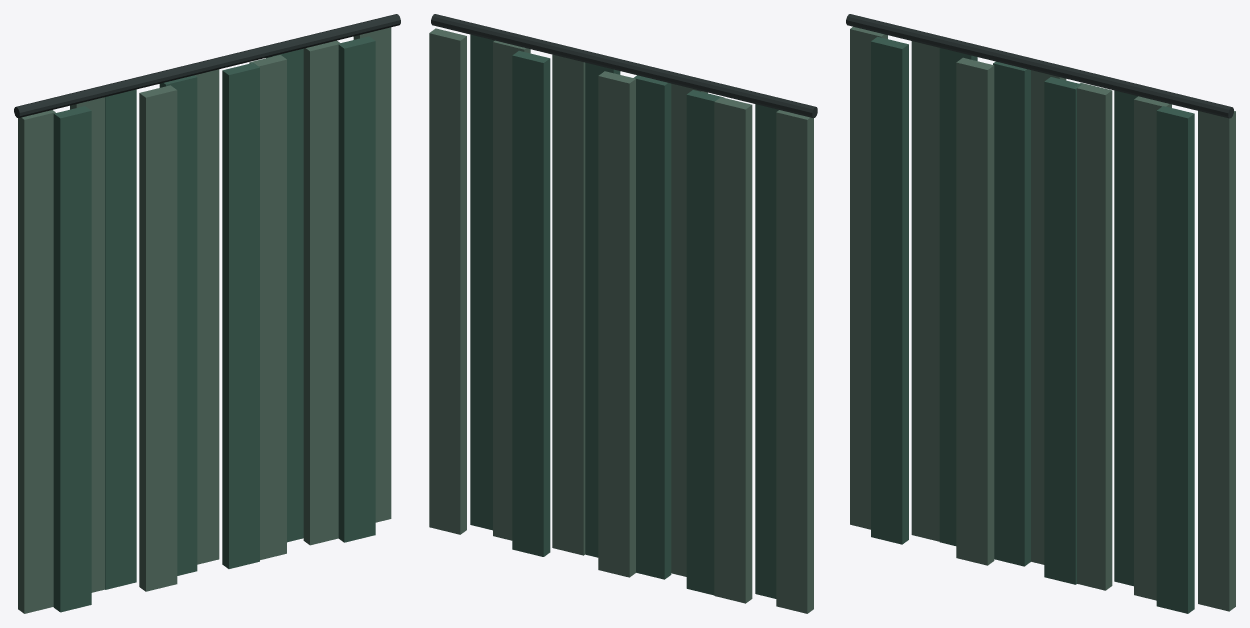
The model's file is privacy_curtain.glb.
3 renders of one model, left to right at view 1: azimuth 30°, elevation 25°; view 2: azimuth 150°, elevation 25°; view 3: azimuth 330°, elevation 25°, orthographic.
Parts seen in each view (by area): view 1: privacy_curtain; view 2: privacy_curtain; view 3: privacy_curtain.
Boxes of the visible parts, bbox=[...] form: privacy_curtain: bbox=[14, 14, 400, 613]; privacy_curtain: bbox=[429, 14, 817, 613]; privacy_curtain: bbox=[846, 14, 1235, 613].
Bounding box in the file's own units: 1.34 × 1.7 × 0.1337.
